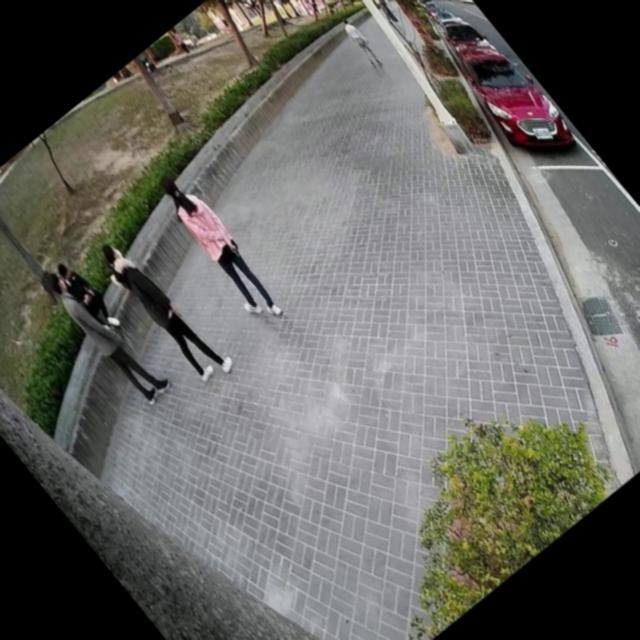person: (86, 224, 240, 400), (144, 160, 295, 333), (36, 251, 179, 414), (44, 248, 130, 344), (334, 14, 388, 74), (166, 27, 193, 57)
